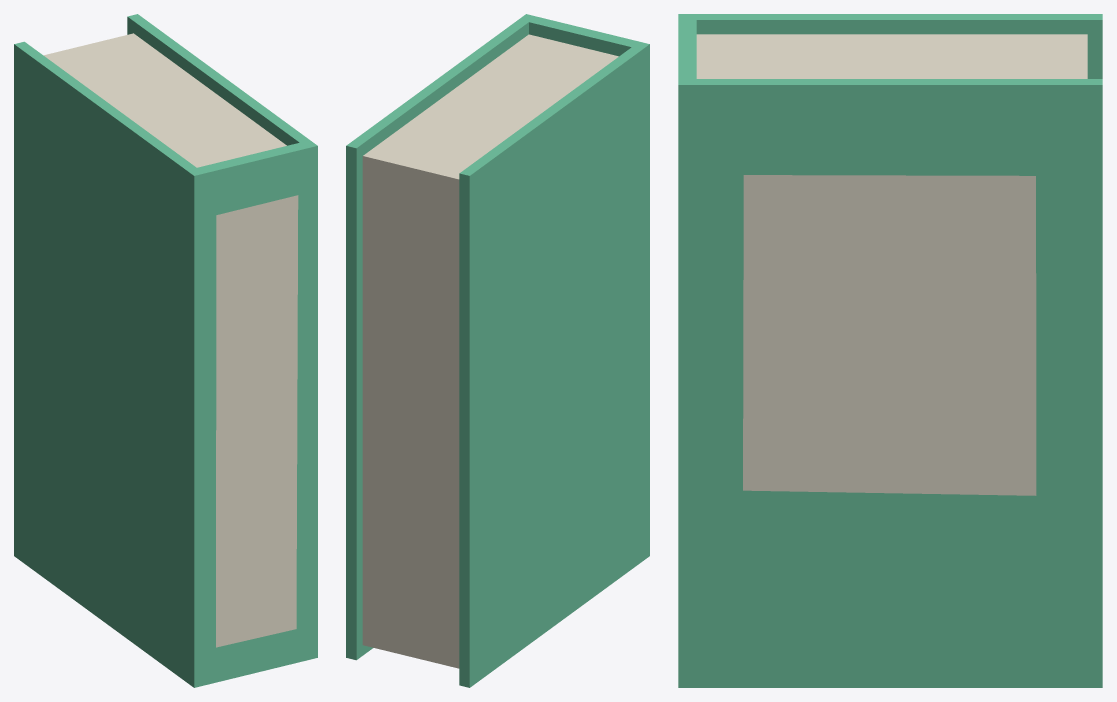
The model's file is book11.fbx.
The picture shows the model from 3 angles, left to right: view 1: azimuth 30°, elevation 25°; view 2: azimuth 150°, elevation 25°; view 3: azimuth 270°, elevation 25°; orthographic projection. The views are drawn at different scales.
Parts seen in each view (by area): view 1: Boole_4; view 2: Boole_4; view 3: Boole_4.
Part boxes in pixels (x1,y1,x2,y2): Boole_4: [14, 14, 317, 687]; Boole_4: [346, 14, 649, 687]; Boole_4: [678, 14, 1102, 687].
Bounding box in the file's own units: 11.73 × 46.4 × 29.58.
